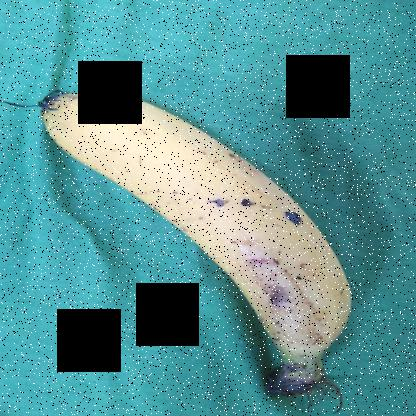ripe: (37, 79, 359, 361)
